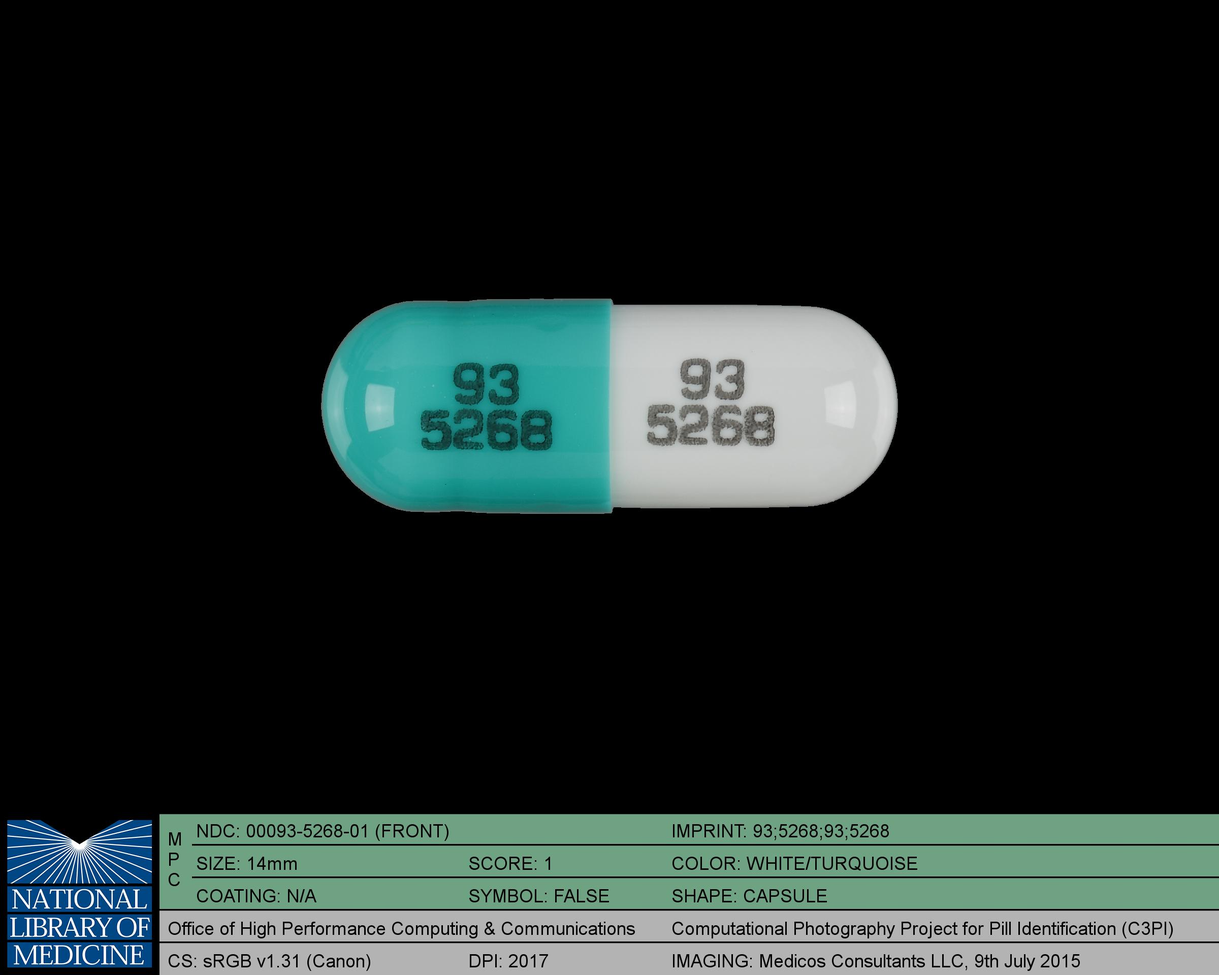Pill: (310, 284, 906, 526)
